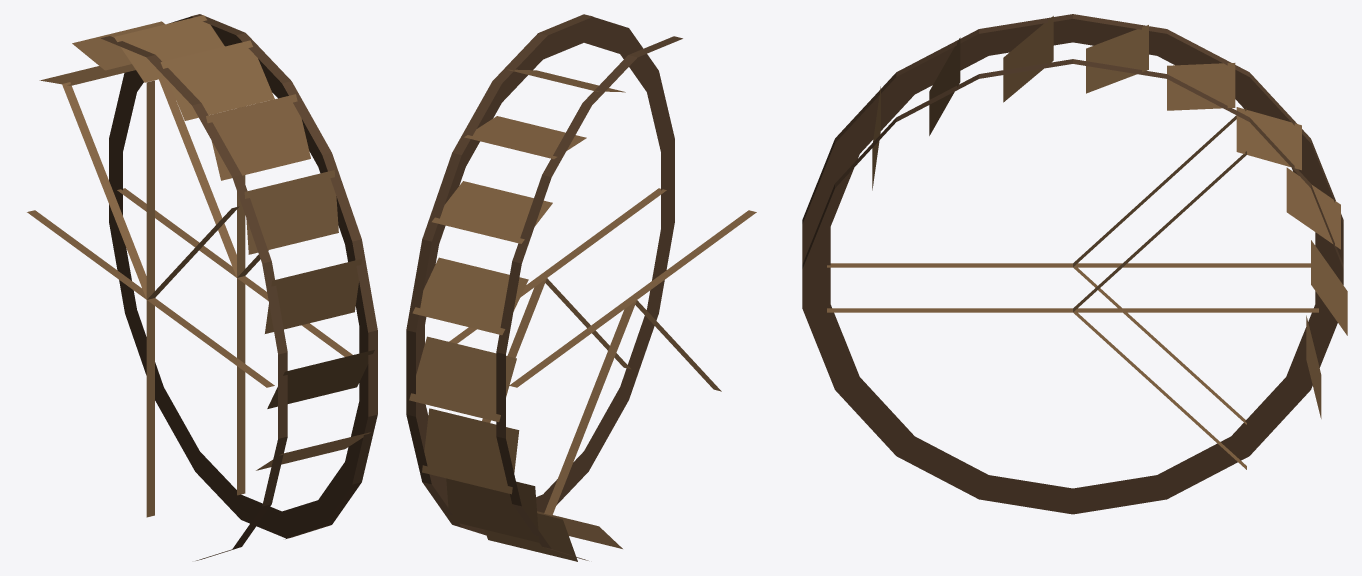
The model's file is mill_wheel.glb.
3 renders of one model, left to right at view 1: azimuth 30°, elevation 25°; view 2: azimuth 150°, elevation 25°; view 3: azimuth 270°, elevation 25°, orthographic. The views are drawn at different scales.
Visible parts, largest first — view 1: mill_wheel; view 2: mill_wheel; view 3: mill_wheel.
Part boxes in pixels (x1,y1,x2,y2): mill_wheel: (27,14,377,560); mill_wheel: (406,14,756,561); mill_wheel: (802,14,1347,514).
Size of the model in its own units: 1.44 by 6.72 by 6.7.
